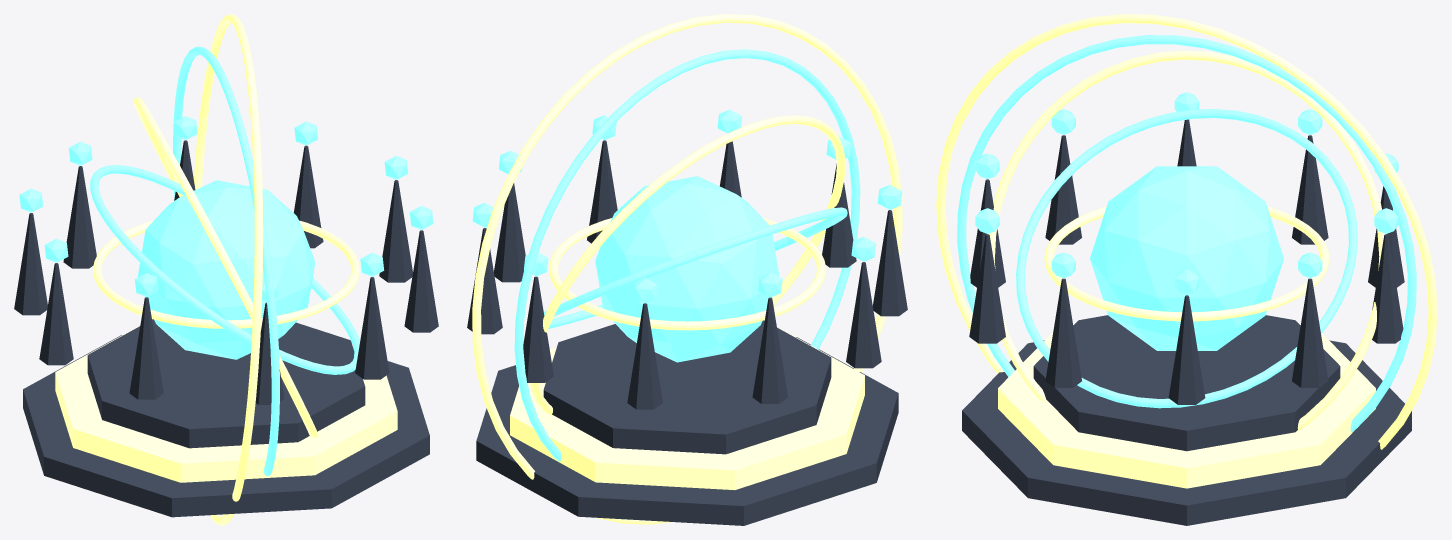
The model's file is gpu-blender-v35.glb.
The picture shows the model from 3 angles, left to right: view 1: azimuth 30°, elevation 25°; view 2: azimuth 150°, elevation 25°; view 3: azimuth 270°, elevation 25°; orthographic projection. The views are drawn at different scales.
Visible parts, largest first — view 1: Cylinder.002, Cylinder, SovereignCore_azoth-local-agent, Cylinder.001, Torus.004, Torus.003, Torus.001, Torus, Torus.002, Cone.004, Cone.008, Cone.005 (+6 smaller); view 2: Cylinder.002, SovereignCore_azoth-local-agent, Cylinder, Cylinder.001, Torus.004, Torus.003, Torus.002, Torus, Torus.001, Cone.005, Cone.003, Cone.006 (+7 smaller); view 3: SovereignCore_azoth-local-agent, Cylinder.002, Cylinder, Cylinder.001, Torus.004, Torus.003, Torus.001, Torus.002, Torus, Cone, Cone.008, Cone.001 (+7 smaller).
Boxes of the visible parts, x1,y1,x2,y2 form: Cylinder.002: (87, 319, 365, 448); Cylinder: (23, 335, 429, 517); SovereignCore_azoth-local-agent: (137, 180, 315, 359); Cylinder.001: (55, 326, 397, 482); Torus.004: (194, 14, 263, 525); Torus.003: (173, 46, 279, 475); Torus.001: (90, 165, 360, 374); Torus: (93, 220, 359, 328); Torus.002: (133, 97, 318, 437); Cone.004: (14, 213, 47, 315); Cone.008: (355, 277, 389, 379); Cone.005: (39, 263, 73, 365); Cylinder.002: (543, 320, 831, 454); SovereignCore_azoth-local-agent: (595, 176, 779, 362); Cylinder: (476, 337, 898, 525); Cylinder.001: (510, 328, 864, 490); Torus.004: (472, 14, 902, 524); Torus.003: (514, 49, 860, 461); Torus.002: (530, 115, 845, 415); Torus: (549, 218, 825, 330); Torus.001: (544, 207, 847, 328); Cone.005: (846, 262, 881, 368); Cone.003: (627, 303, 662, 409); Cone.006: (873, 210, 907, 316); SovereignCore_azoth-local-agent: (1090, 166, 1283, 350); Cylinder.002: (1033, 315, 1340, 451); Cylinder: (962, 340, 1411, 525); Cylinder.001: (998, 332, 1375, 488); Torus.004: (936, 14, 1437, 449); Torus.003: (957, 35, 1416, 432); Torus.001: (1016, 109, 1357, 408); Torus.002: (988, 50, 1385, 431); Torus: (1044, 206, 1329, 321); Cone: (1168, 295, 1205, 404); Cone.008: (969, 234, 1005, 343); Cone.001: (1292, 278, 1328, 387).
Size of the model in its own units: 4.41 by 5.33 by 4.9.
